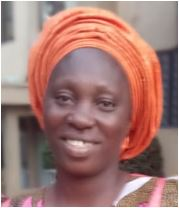without_facemask: (45, 113, 116, 177)
